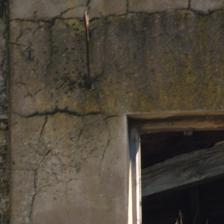Crack: (12, 0, 126, 95), (133, 0, 224, 37), (177, 15, 224, 41)
